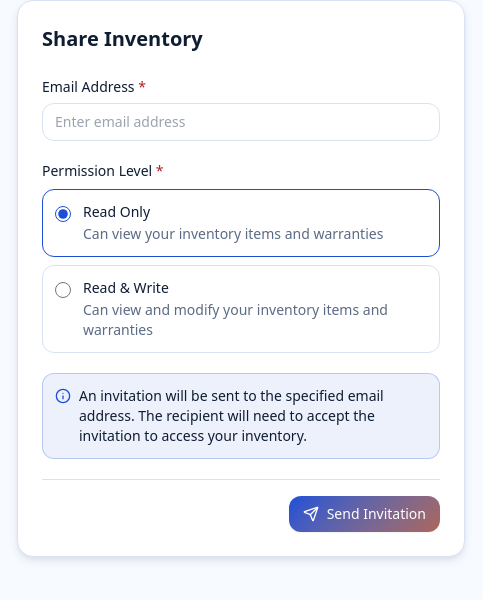
Test: <ShareForm /> › requires an email
Click the button "Send Invitation": (364, 514) [289,496,440,532]
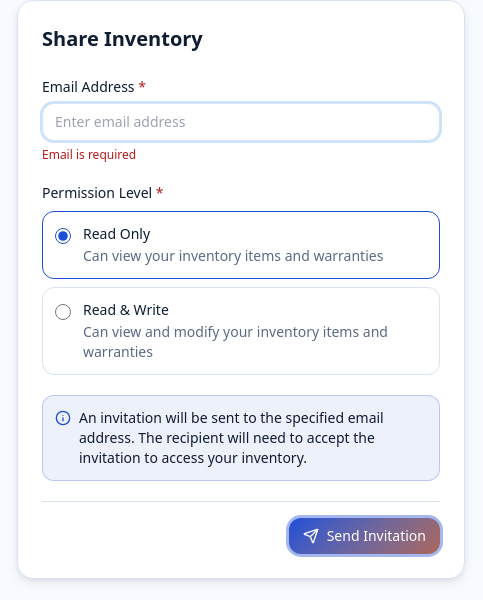
Expected: the text "Email is required" is shown, [42,146,136,163]
